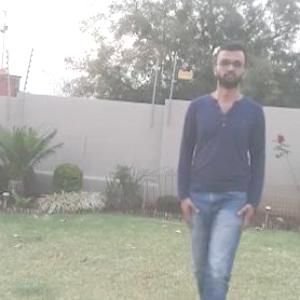follow: (177, 52, 261, 299)
